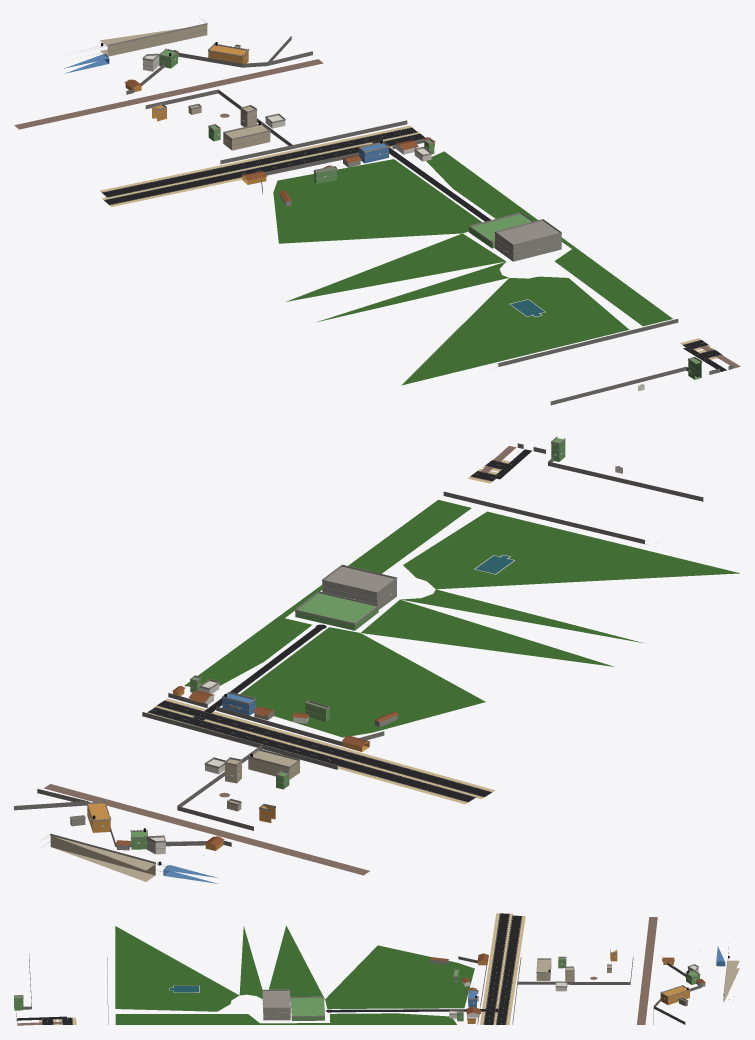
Rendered from zone_t7_0.glb.
3 views of the same model, one above another, from view 1: azimuth 30°, elevation 25°; view 2: azimuth 150°, elevation 25°; view 3: azimuth 270°, elevation 25° (orthographic). The views are drawn at different scales.
Visible parts, largest first — view 1: zone_herbe_t7_0, route_primary_bitume_t7_0, mur_wall_t7_0-col, bld_peinture_ecaillee_t7_0-col, accotement_t7_0, parapet_t7_0, bld_beton_t7_0-col, route_residential_paves_t7_0, bld_peinture_vert_t7_0-col, bld_peinture_ocre_t7_0-col, route_service_bitume_t7_0, bld_peinture_bleu_t7_0-col (+1 smaller); view 2: zone_herbe_t7_0, route_primary_bitume_t7_0, mur_wall_t7_0-col, bld_peinture_ecaillee_t7_0-col, bld_peinture_vert_t7_0-col, parapet_t7_0, accotement_t7_0, bld_beton_t7_0-col, route_residential_paves_t7_0, bld_peinture_ocre_t7_0-col, route_service_bitume_t7_0, toit_tole_t7_0 (+2 smaller); view 3: zone_herbe_t7_0, route_primary_bitume_t7_0, accotement_t7_0, bld_peinture_vert_t7_0-col, mur_wall_t7_0-col, parapet_t7_0, route_residential_paves_t7_0, bld_beton_t7_0-col, bld_peinture_ecaillee_t7_0-col, route_service_bitume_t7_0, bld_peinture_ocre_t7_0-col, toit_tole_t7_0 (+3 smaller).
Part boxes in pixels (x1=…): zone_herbe_t7_0: x1=273, y1=151, x2=672, y2=385; route_primary_bitume_t7_0: x1=102, y1=127, x2=721, y2=358; mur_wall_t7_0-col: x1=126, y1=36, x2=733, y2=405; bld_peinture_ecaillee_t7_0-col: x1=100, y1=25, x2=270, y2=150; accotement_t7_0: x1=100, y1=125, x2=724, y2=359; parapet_t7_0: x1=81, y1=16, x2=701, y2=364; bld_beton_t7_0-col: x1=178, y1=46, x2=561, y2=261; route_residential_paves_t7_0: x1=14, y1=59, x2=323, y2=129; bld_peinture_vert_t7_0-col: x1=159, y1=50, x2=701, y2=379; bld_peinture_ocre_t7_0-col: x1=125, y1=45, x2=434, y2=184; route_service_bitume_t7_0: x1=389, y1=147, x2=726, y2=371; bld_peinture_bleu_t7_0-col: x1=64, y1=54, x2=388, y2=163; zone_herbe_t7_0: x1=184, y1=499, x2=739, y2=737; route_primary_bitume_t7_0: x1=147, y1=460, x2=512, y2=802; mur_wall_t7_0-col: x1=14, y1=443, x2=703, y2=847; bld_peinture_ecaillee_t7_0-col: x1=50, y1=750, x2=299, y2=881; bld_peinture_vert_t7_0-col: x1=131, y1=438, x2=565, y2=849; parapet_t7_0: x1=43, y1=436, x2=565, y2=870; accotement_t7_0: x1=147, y1=458, x2=510, y2=804; bld_beton_t7_0-col: x1=70, y1=566, x2=397, y2=850; route_residential_paves_t7_0: x1=44, y1=784, x2=369, y2=875; bld_peinture_ocre_t7_0-col: x1=87, y1=689, x2=369, y2=850; route_service_bitume_t7_0: x1=204, y1=449, x2=532, y2=712; toit_tole_t7_0: x1=116, y1=686, x2=398, y2=845; zone_herbe_t7_0: x1=115, y1=925, x2=474, y2=1024; route_primary_bitume_t7_0: x1=42, y1=913, x2=522, y2=1024; accotement_t7_0: x1=39, y1=913, x2=525, y2=1025; bld_peinture_vert_t7_0-col: x1=14, y1=958, x2=699, y2=1021; mur_wall_t7_0-col: x1=16, y1=953, x2=701, y2=1024; parapet_t7_0: x1=14, y1=943, x2=734, y2=1017; route_residential_paves_t7_0: x1=637, y1=917, x2=657, y2=1024; bld_beton_t7_0-col: x1=263, y1=959, x2=705, y2=1020; bld_peinture_ecaillee_t7_0-col: x1=536, y1=959, x2=739, y2=1002; route_service_bitume_t7_0: x1=17, y1=1009, x2=485, y2=1020; bld_peinture_ocre_t7_0-col: x1=467, y1=950, x2=689, y2=1023; toit_tole_t7_0: x1=430, y1=953, x2=705, y2=1020.
Size of the model in its own units: 186 by 9.9 by 509.
